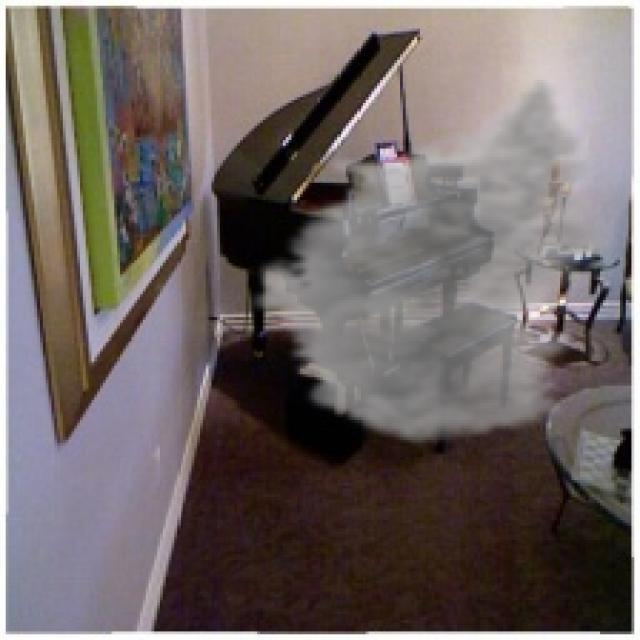Smoke: (243, 74, 623, 449)
